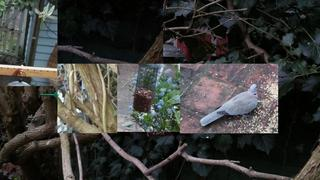collared dove: (200, 84, 258, 126)
